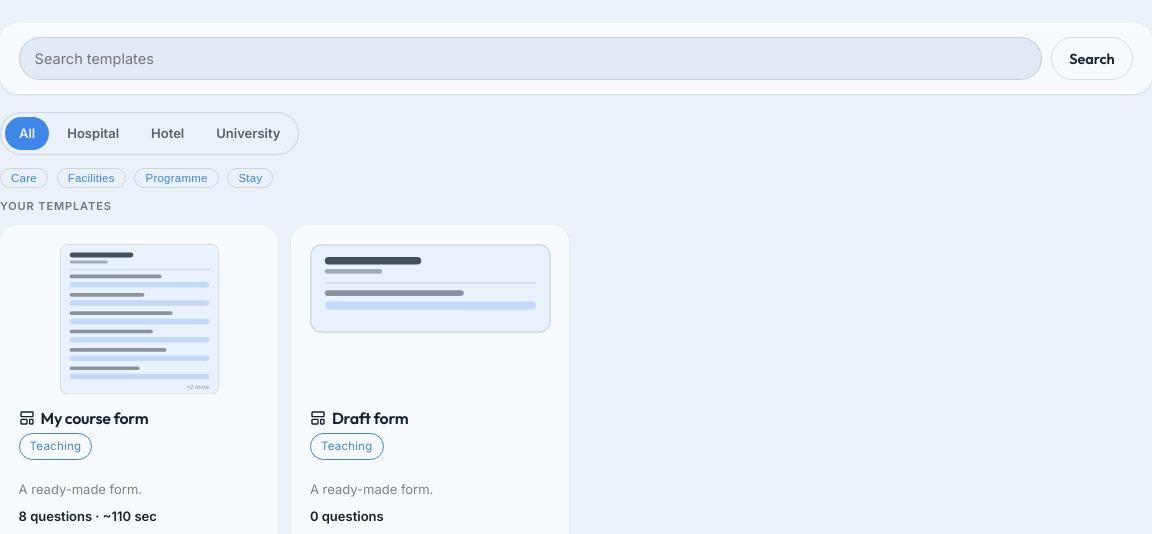
Test: the industry filter defaults to the org, and every other one stays reachable › a category chip narrows further and can be pressed off again
The image size is (1152, 534).
Click the button "Facilities" at [91, 178], box [57, 168, 126, 188]
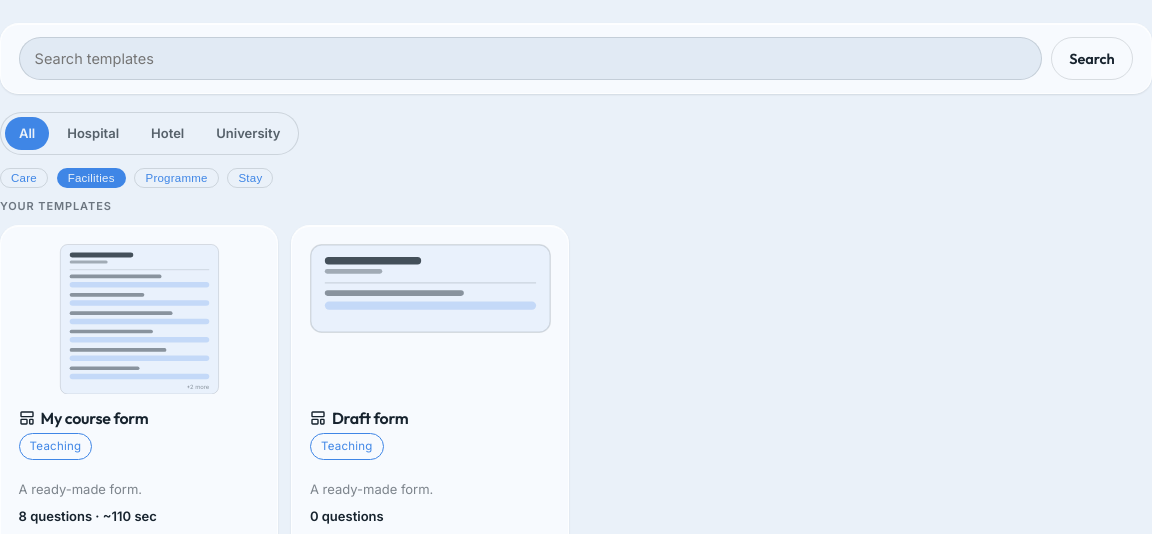
Click the button "Facilities" at [91, 178], box [57, 168, 126, 188]
(page scrolled)
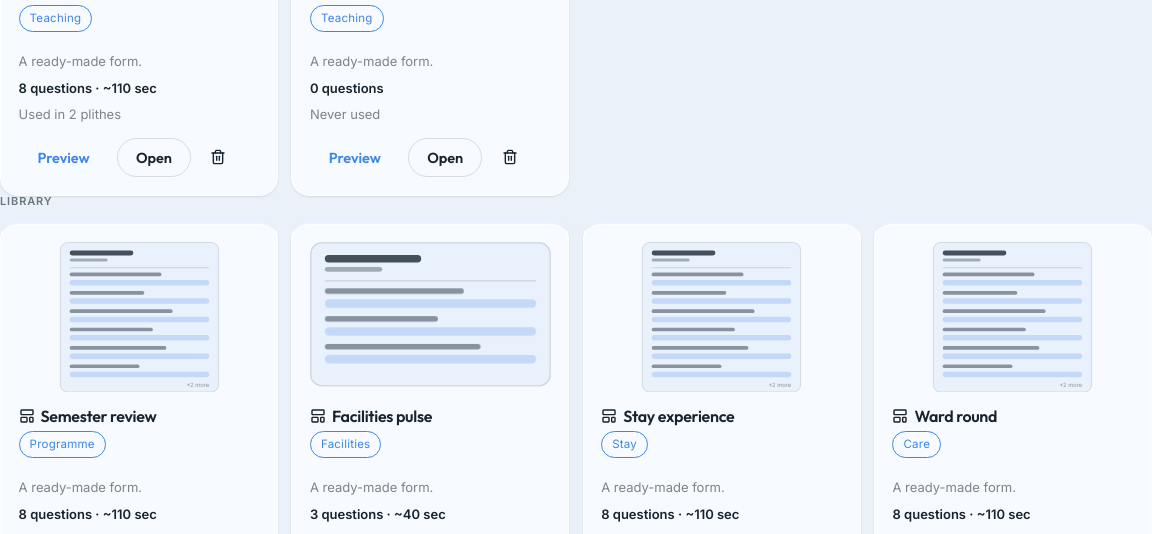
Now the heading "Semester review" is shown, box [19, 406, 156, 426]
